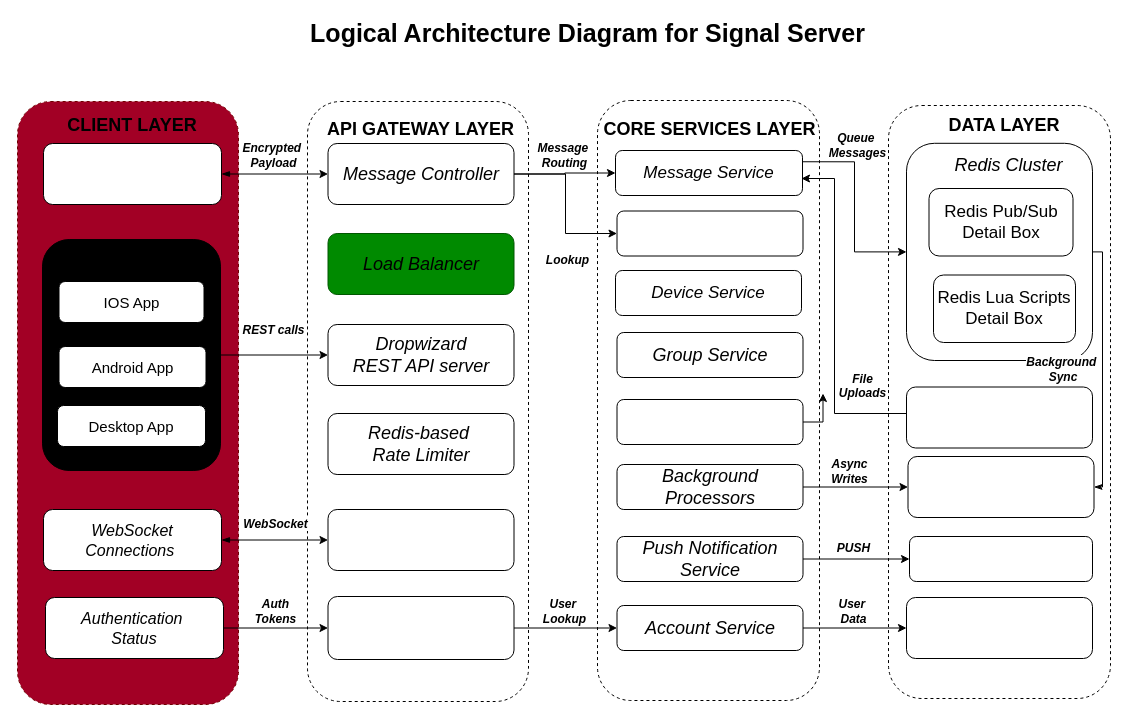
Image size: 1128x722. Some labels were removed from this diagram. The shapes that lost their labels are listed below. From the top down, each one's centre as x and y in pixels, then its label:
At point (132, 173): "Message Encryption".
At point (709, 233): "Key Management Service".
At point (709, 421): "Profile Service".
At point (999, 417): "AWS S3(Attachments)".
At point (1000, 487): "DynamoDB(Messages)".
At point (420, 539): "WebSocket Handler".
At point (1000, 559): "External Services".
At point (420, 628): "Authentication Service".
At point (999, 627): "PostgreSQL(Accounts)".
